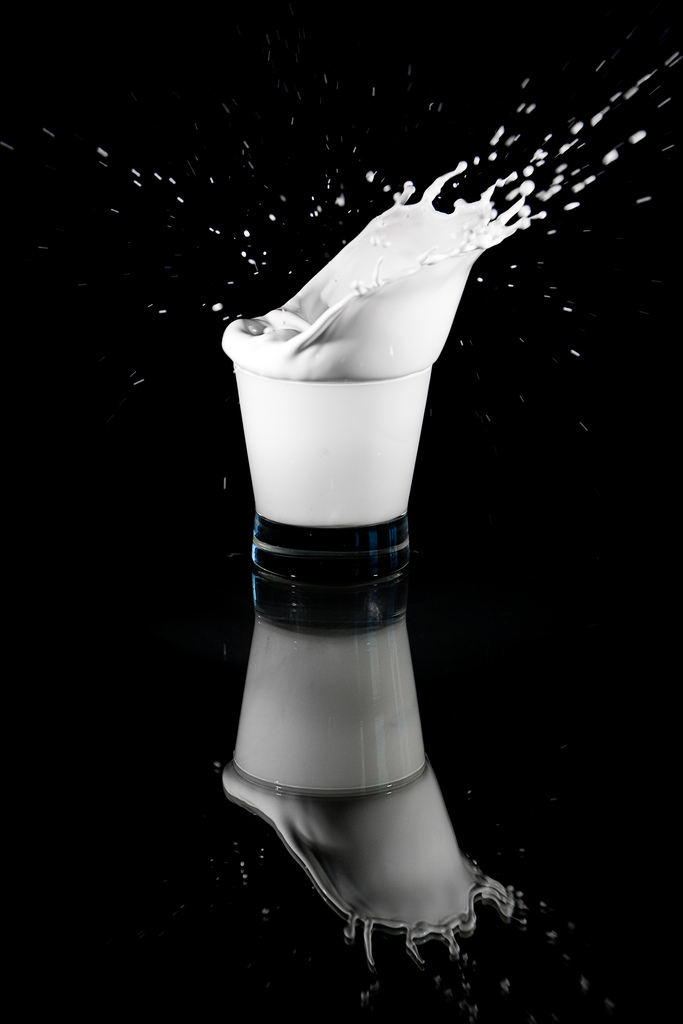glass of milk: (218, 289, 430, 558)
